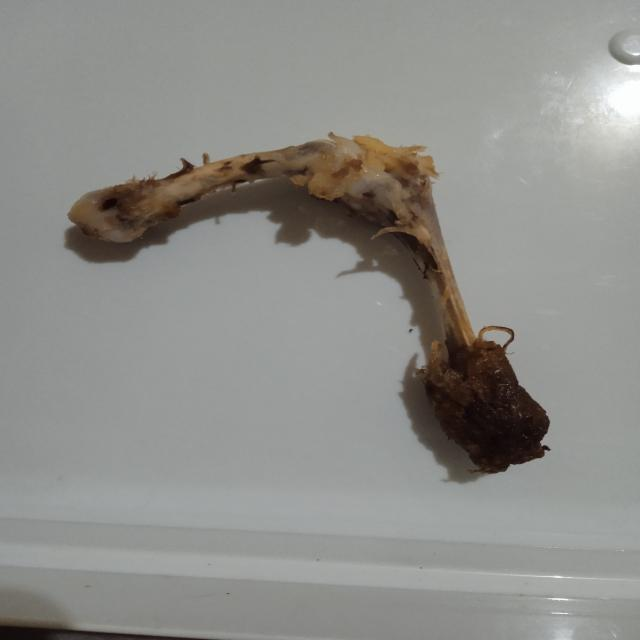bone: (58, 128, 556, 480)
